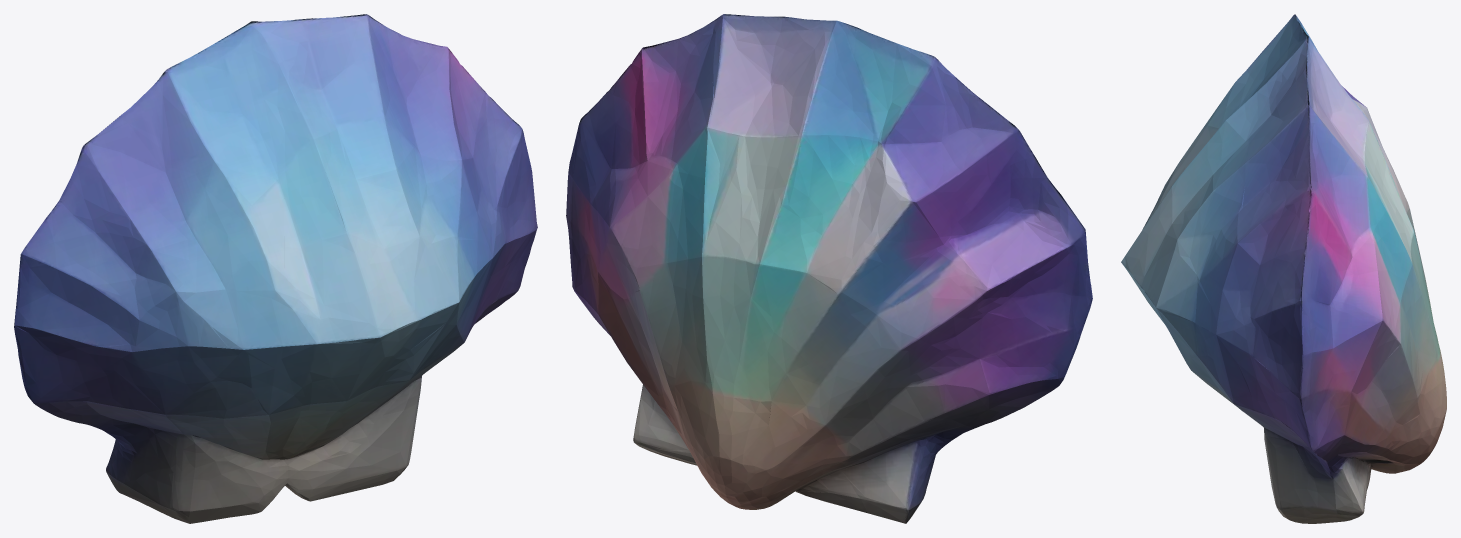
File: aurora_shell.glb
The picture shows the model from 3 angles, left to right: view 1: azimuth 30°, elevation 25°; view 2: azimuth 150°, elevation 25°; view 3: azimuth 270°, elevation 25°; orthographic projection. The views are drawn at different scales.
Visible parts, largest first — view 1: world; view 2: world; view 3: world.
Part boxes in pixels (x1,y1,x2,y2): world: [14, 14, 537, 523]; world: [566, 14, 1092, 523]; world: [1121, 14, 1446, 523].
Size of the model in its own units: 0.9964 by 0.8702 by 0.598.
1 material, 1 textured.
